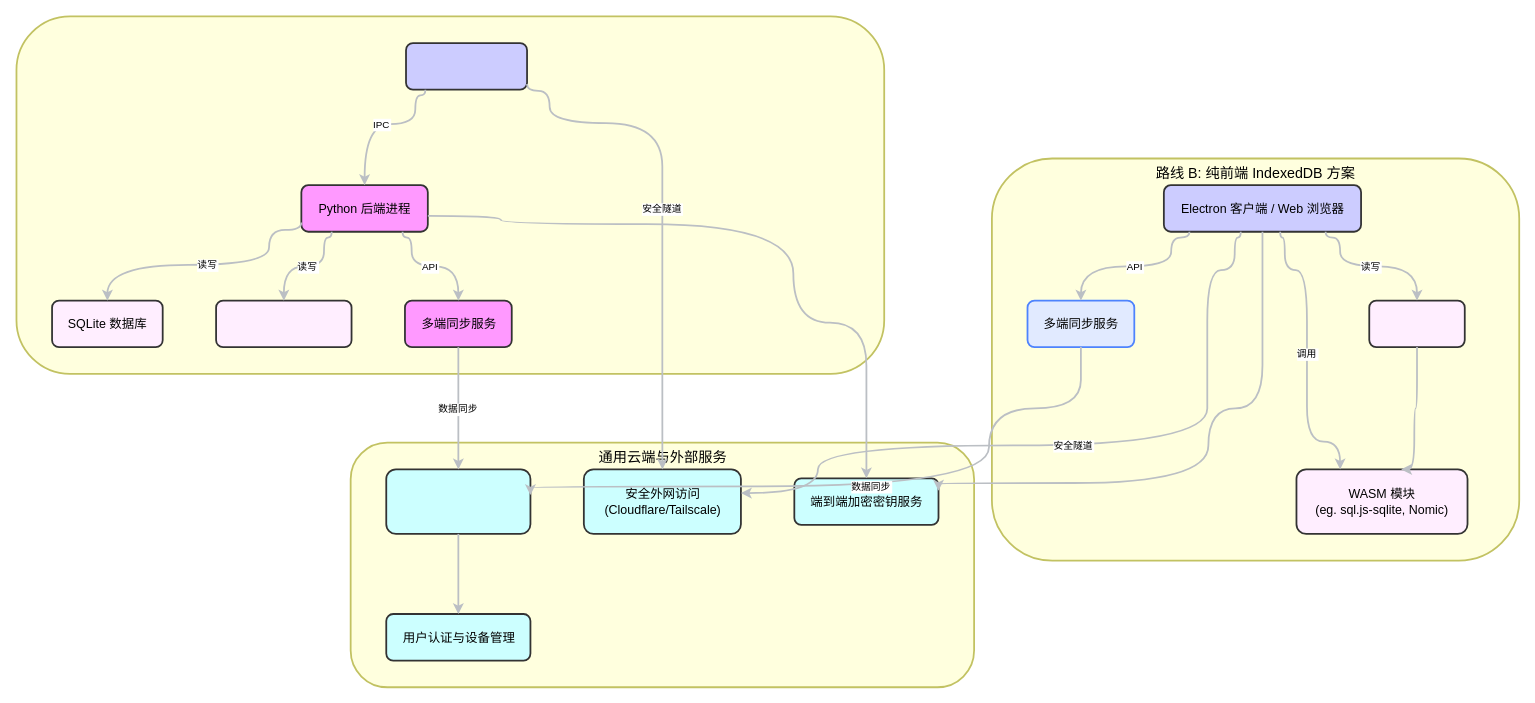
Some shapes in this 1535 by 703 pixel diagram are drawn without their labels. The shapes that lost their labels are listed below. From the top down, each one's box as (x1, y1, x2, y2) in pixels, then its label:
(405, 42, 528, 90): Electron 客户端
(15, 15, 885, 374): 路线 A: Python + Electron 方案
(215, 299, 352, 348): ChromaDB 向量库
(1368, 299, 1465, 348): IndexedDB
(385, 468, 531, 534): 多端同步与冲突解决 (CRDT/事件日志)
